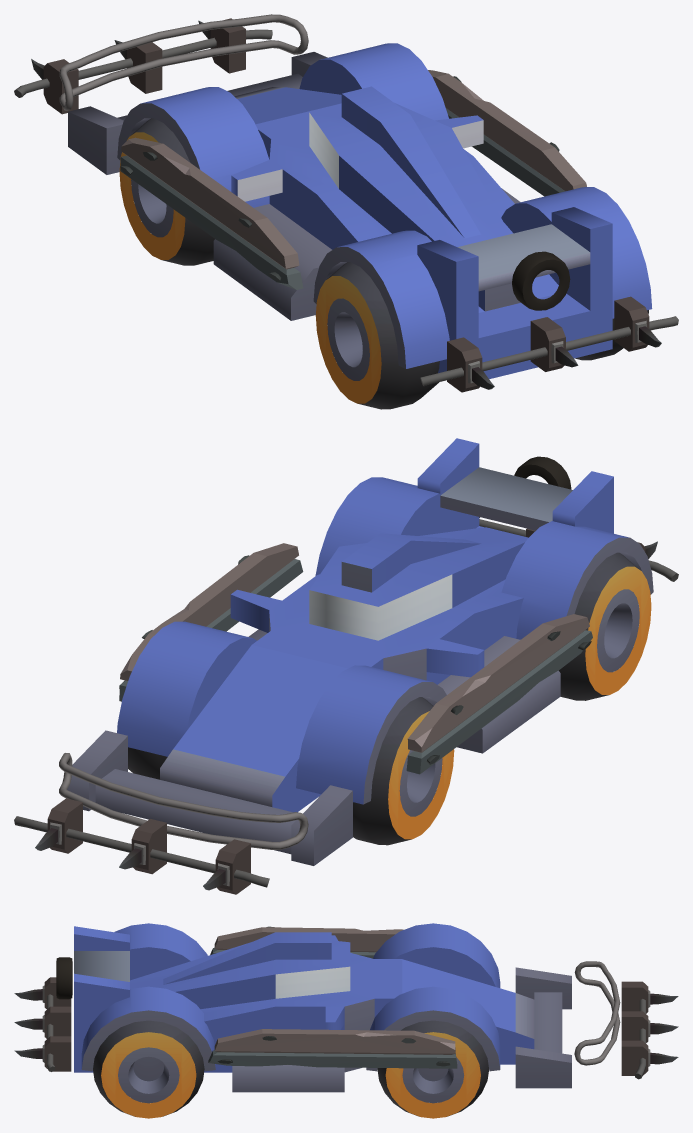
File: car_velocity.glb
3 views of the same model, one above another, from view 1: azimuth 30°, elevation 25°; view 2: azimuth 150°, elevation 25°; view 3: azimuth 270°, elevation 25° (orthographic). The views are drawn at different scales.
Parts seen in each view (by area): view 1: body_mesh, armor_1_mesh, armor_2_mesh, wheel_RL_mesh, armor_3_mesh, wheel_FL_mesh; view 2: body_mesh, armor_1_mesh, wheel_RL_mesh, armor_3_mesh, wheel_FL_mesh, armor_2_mesh, wheel_FR_mesh; view 3: body_mesh, armor_1_mesh, wheel_RR_mesh, wheel_FR_mesh, armor_2_mesh, armor_3_mesh.
Part boxes in pixels (<box>): body_mesh: <box>68,43,652,379</box>; armor_1_mesh: <box>120,70,586,289</box>; armor_2_mesh: <box>59,14,678,392</box>; wheel_RL_mesh: <box>315,262,439,409</box>; armor_3_mesh: <box>14,18,570,310</box>; wheel_FL_mesh: <box>119,118,214,265</box>; body_mesh: <box>67,438,653,865</box>; armor_1_mesh: <box>119,543,592,774</box>; wheel_RL_mesh: <box>558,552,651,700</box>; armor_3_mesh: <box>14,456,571,894</box>; wheel_FL_mesh: <box>353,697,454,845</box>; armor_2_mesh: <box>59,517,678,849</box>; wheel_FR_mesh: <box>128,747,167,779</box>; body_mesh: <box>74,923,571,1092</box>; armor_1_mesh: <box>208,926,457,1068</box>; wheel_RR_mesh: <box>93,1020,204,1118</box>; wheel_FR_mesh: <box>377,1020,488,1118</box>; armor_2_mesh: <box>14,961,620,1071</box>; armor_3_mesh: <box>56,957,678,1079</box>.
Bounding box in the file's own units: 2.12 × 1.25 × 5.34.
Materials: 3 (2 with a texture image).
